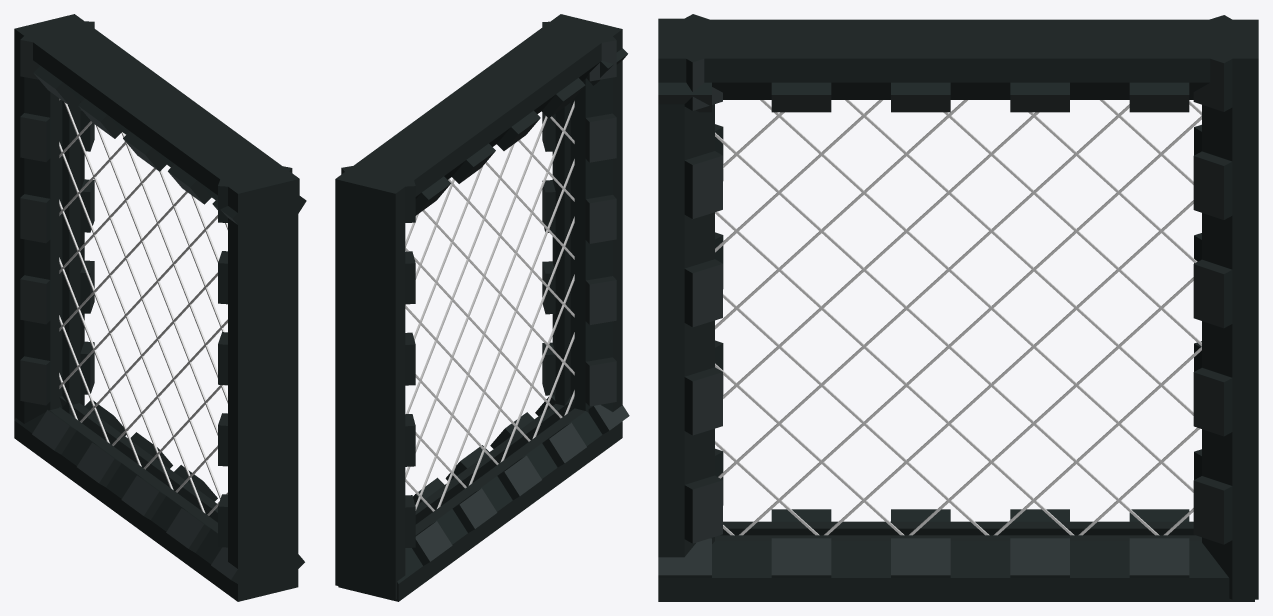
The model's file is wall-metal.gltf.
3 views of the same model, side by side, from view 1: azimuth 30°, elevation 25°; view 2: azimuth 150°, elevation 25°; view 3: azimuth 270°, elevation 25° (orthographic). The views are drawn at different scales.
Visible parts, largest first — view 1: scianki.001; view 2: scianki.001; view 3: scianki.001.
Part boxes in pixels (x1=…): scianki.001: x1=14, y1=14, x2=306, y2=601; scianki.001: x1=335, y1=14, x2=629, y2=601; scianki.001: x1=658, y1=14, x2=1258, y2=601.
Bounding box in the file's own units: 0.3887 × 2 × 2.
1 material, 1 textured.
